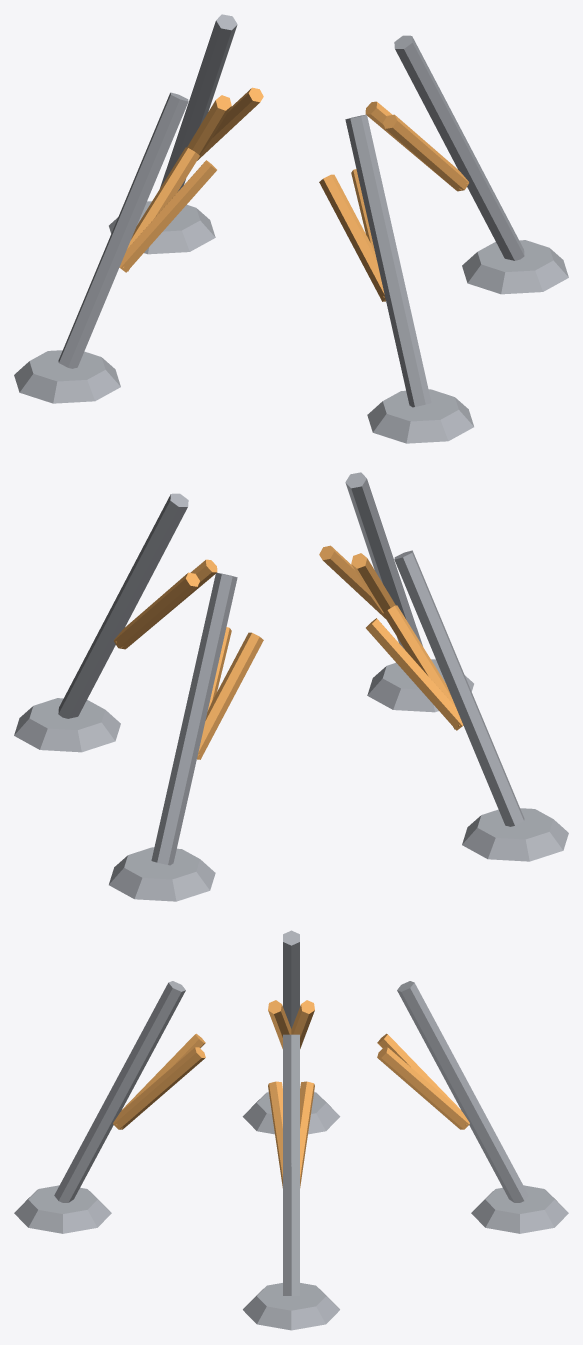
File: legs_heavy.glb
The picture shows the model from 3 angles, top to bottom: view 1: azimuth 30°, elevation 25°; view 2: azimuth 150°, elevation 25°; view 3: azimuth 270°, elevation 25°; orthographic projection. The views are drawn at different scales.
Parts seen in each view (by area): view 1: legs_heavy; view 2: legs_heavy; view 3: legs_heavy.
Part boxes in pixels (x1,y1,x2,y2): legs_heavy: [14, 14, 568, 443]; legs_heavy: [14, 472, 568, 901]; legs_heavy: [14, 930, 568, 1330].
Bounding box in the file's own units: 5.1 × 2.34 × 5.1.
